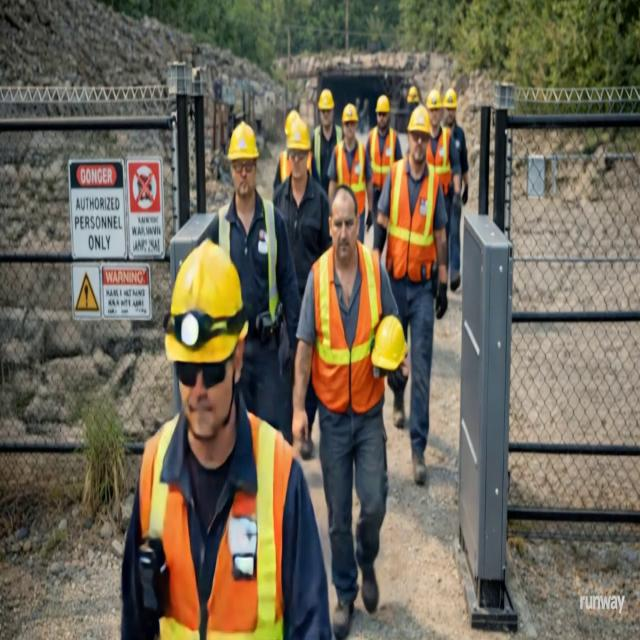Vest: (207, 415, 292, 639), (312, 242, 384, 413), (386, 160, 438, 281), (335, 142, 365, 214), (262, 200, 278, 320), (369, 127, 396, 190), (427, 128, 451, 195)
Worker: (121, 240, 331, 639), (294, 186, 406, 639), (211, 122, 300, 441), (374, 105, 447, 484), (274, 120, 331, 299), (427, 89, 461, 287), (328, 104, 372, 242), (366, 95, 402, 215), (313, 89, 342, 193), (444, 88, 468, 205), (273, 149, 290, 192)
helmet: (165, 240, 247, 363), (371, 316, 407, 371), (228, 122, 258, 160), (287, 118, 310, 151), (407, 105, 430, 135), (285, 110, 299, 135), (318, 89, 334, 110), (342, 104, 358, 123), (427, 89, 442, 109), (444, 88, 456, 109), (376, 95, 389, 113), (407, 86, 419, 103)
